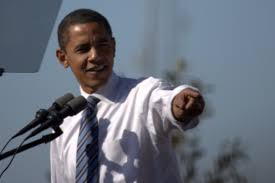hand: (165, 77, 218, 128)
